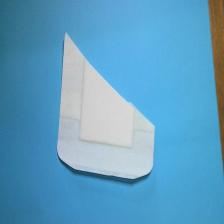Cut: (56, 32, 158, 182)
